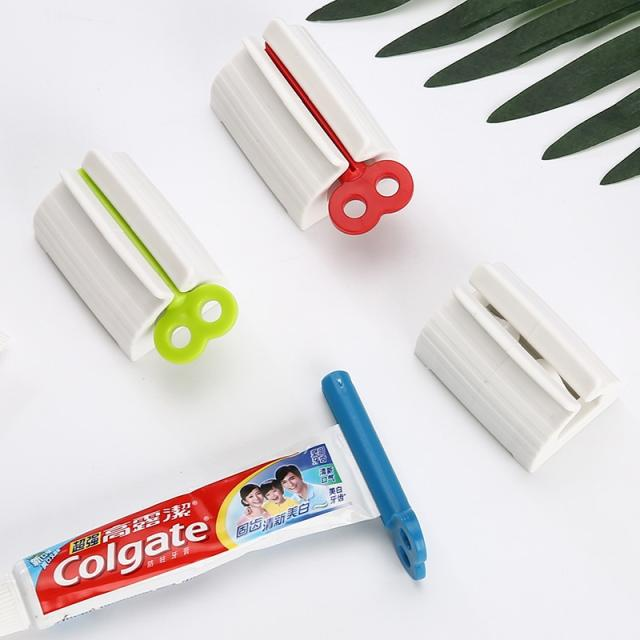toothpaste: (0, 417, 368, 639)
